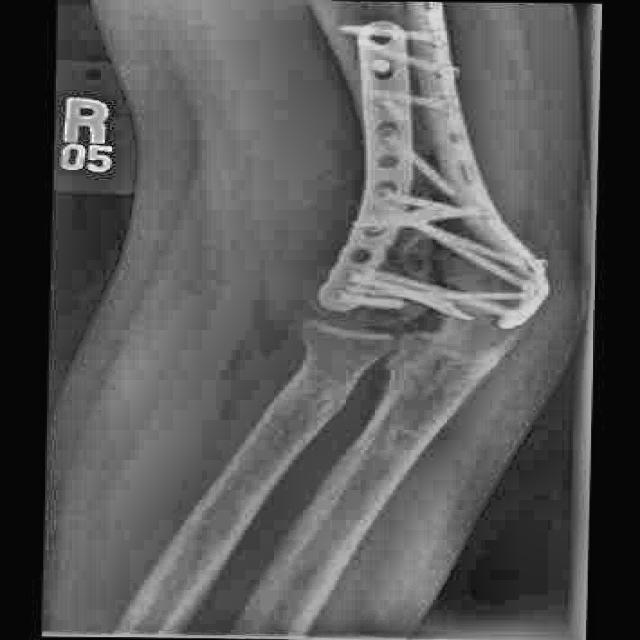elbow positive: (374, 222, 496, 292)
